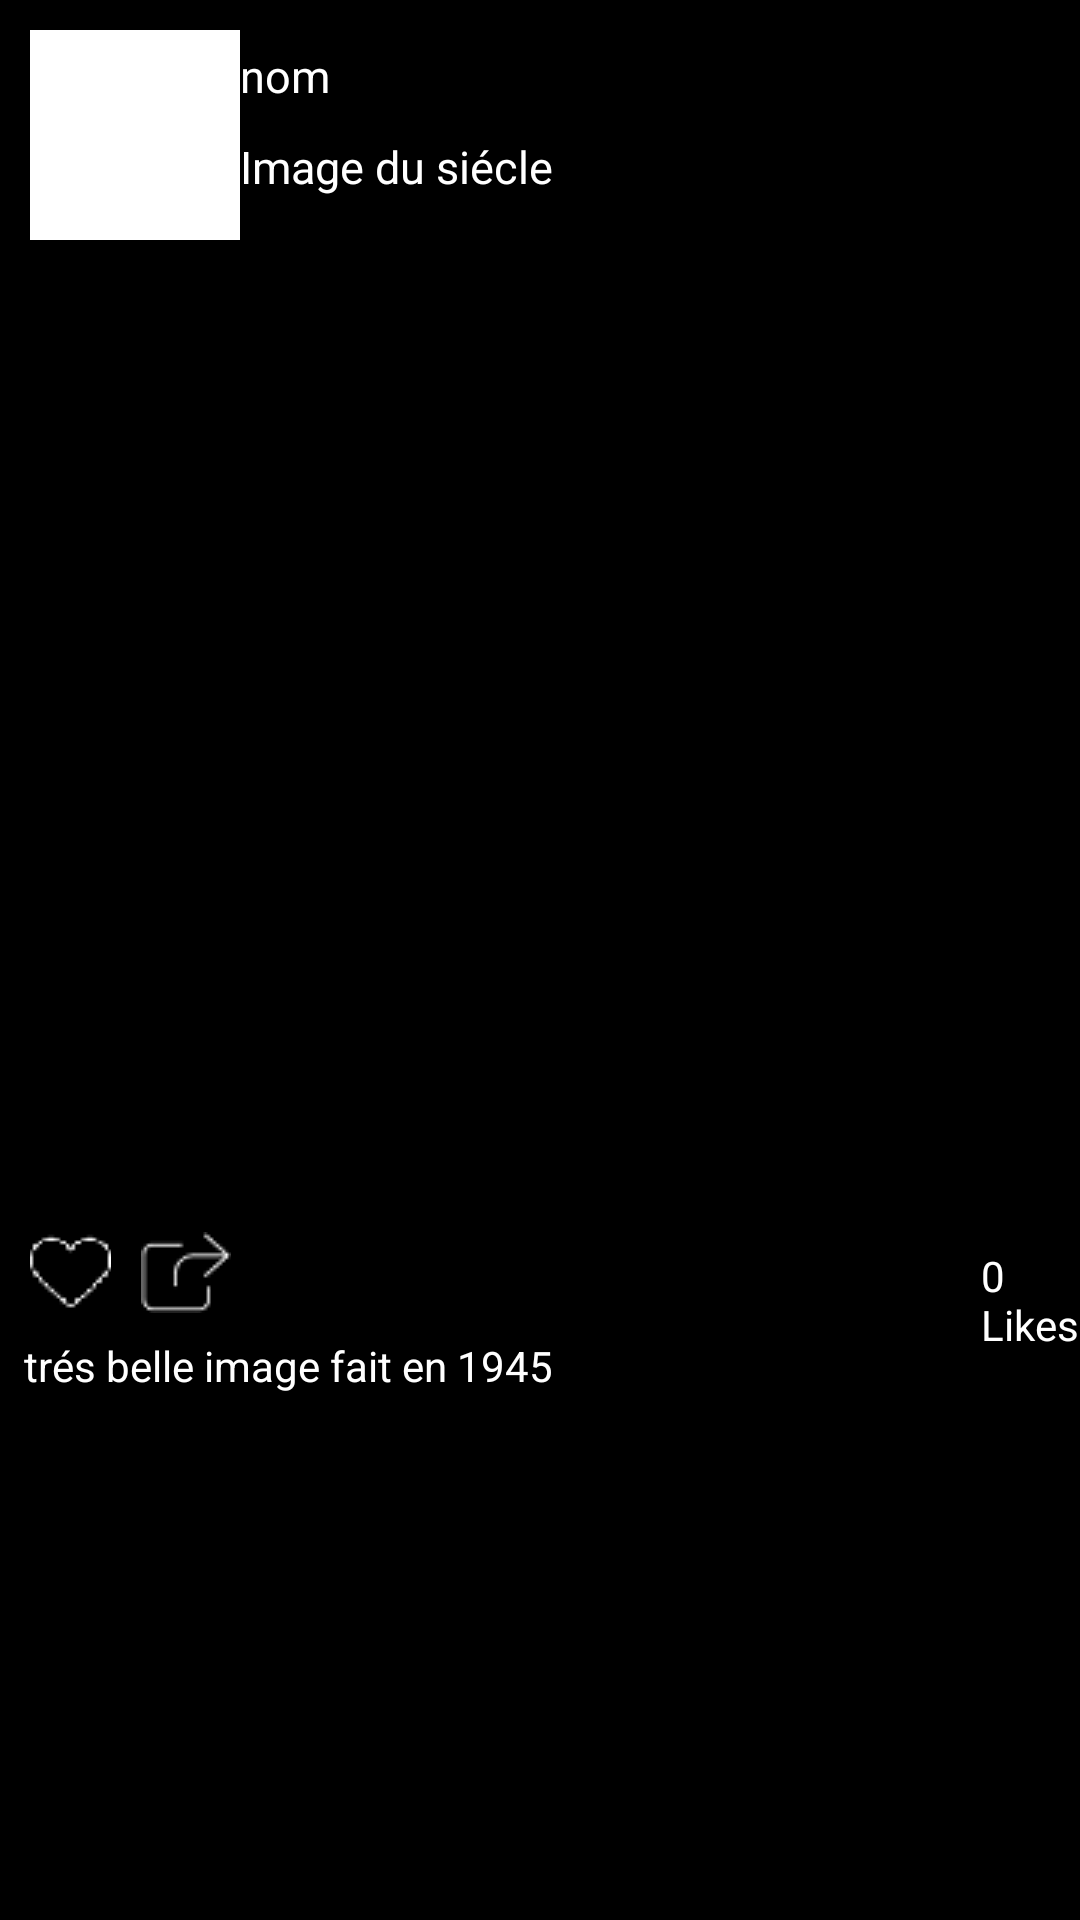

Point at icon controls on the screen. Image size 1080*1920, points as [x,y].
like: [70,1272]
partage: [186,1272]
